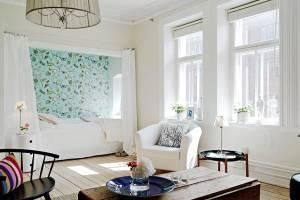window: (166, 1, 284, 127)
